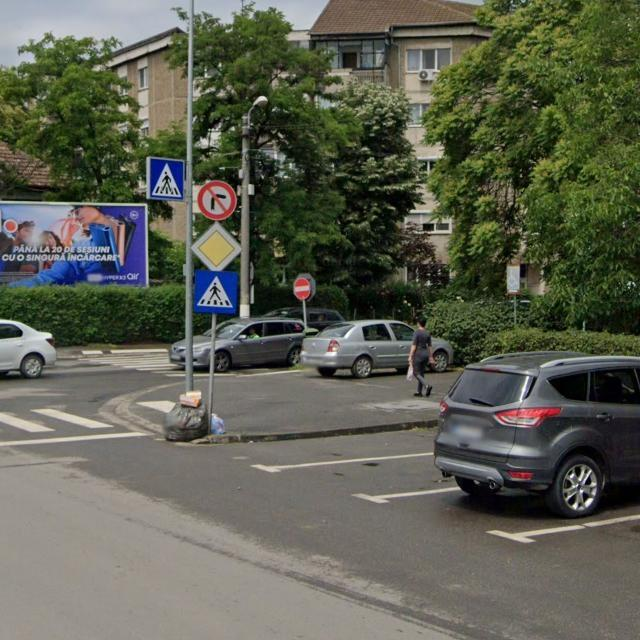info_crosswalk: (194, 271, 239, 314), (147, 157, 185, 202)
